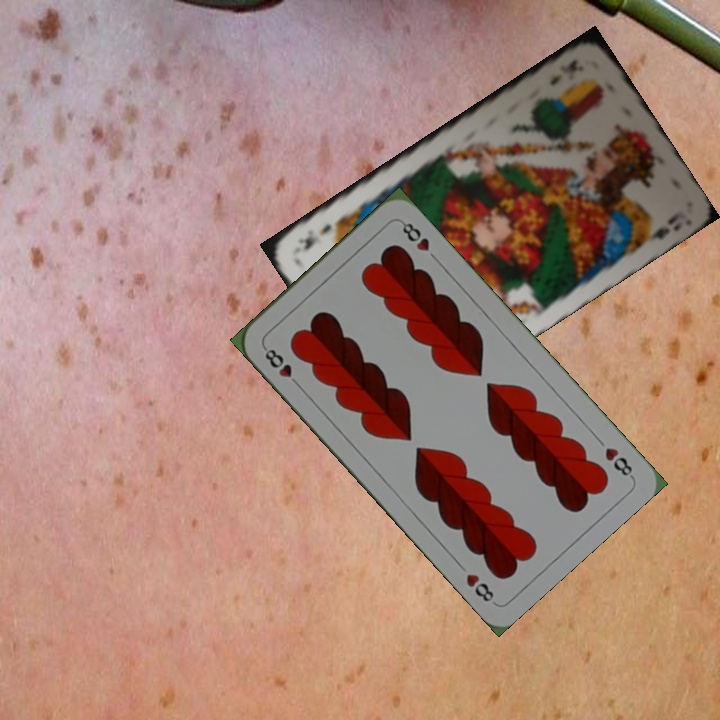EK: (545, 55, 581, 88)
H8: (259, 342, 304, 390), (601, 443, 636, 480)
